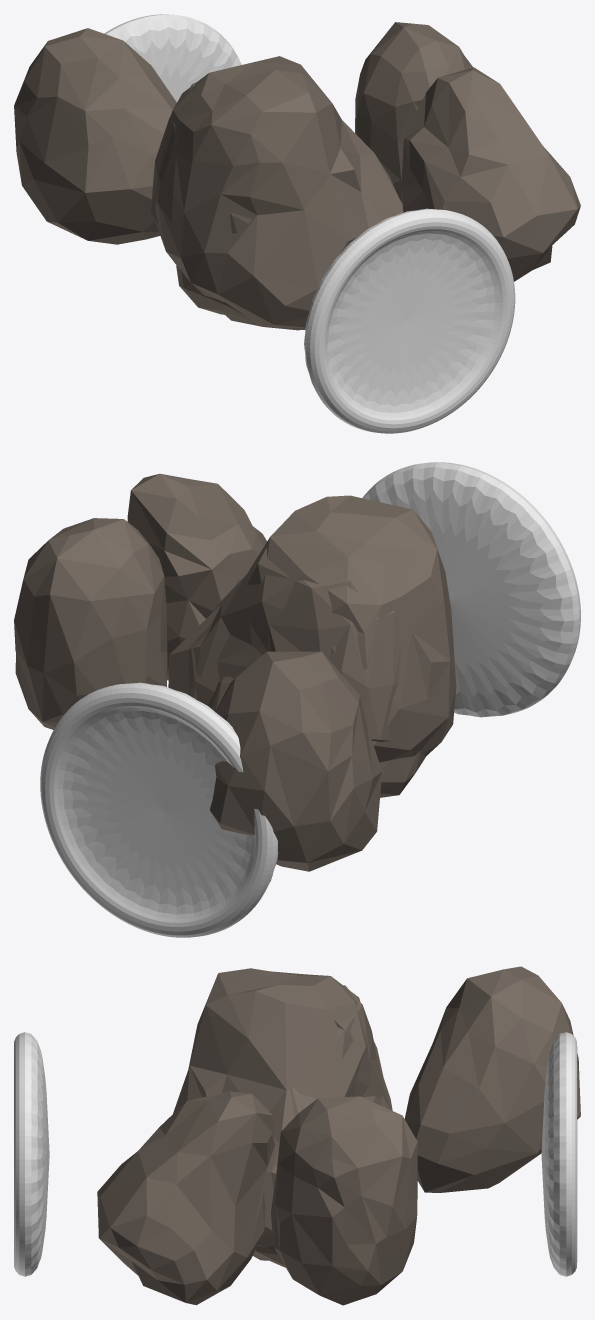
Rendered from rock3.fbx.
3 renders of one model, top to bottom at view 1: azimuth 30°, elevation 25°; view 2: azimuth 150°, elevation 25°; view 3: azimuth 270°, elevation 25°, orthographic. The views are drawn at different scales.
Visible parts, largest first — view 1: rock2, Cylinder.001, rock1, rock3; view 2: Cylinder.001, rock3, rock1, rock2; view 3: rock1, rock3, rock2, Cylinder.001.
Boxes of the visible parts, box(x1,y1,x2,y2) form: rock2: box(154, 56, 402, 330); Cylinder.001: box(104, 14, 515, 433); rock1: box(176, 22, 580, 321); rock3: box(14, 28, 360, 244); Cylinder.001: box(40, 462, 580, 937); rock3: box(188, 548, 400, 871); rock1: box(14, 473, 425, 797); rock2: box(168, 495, 456, 762); rock1: box(97, 1091, 417, 1305); rock3: box(289, 966, 580, 1192); rock2: box(173, 968, 392, 1260); Cylinder.001: box(14, 1032, 577, 1276).
Size of the model in its own units: 194 by 135 by 250.
